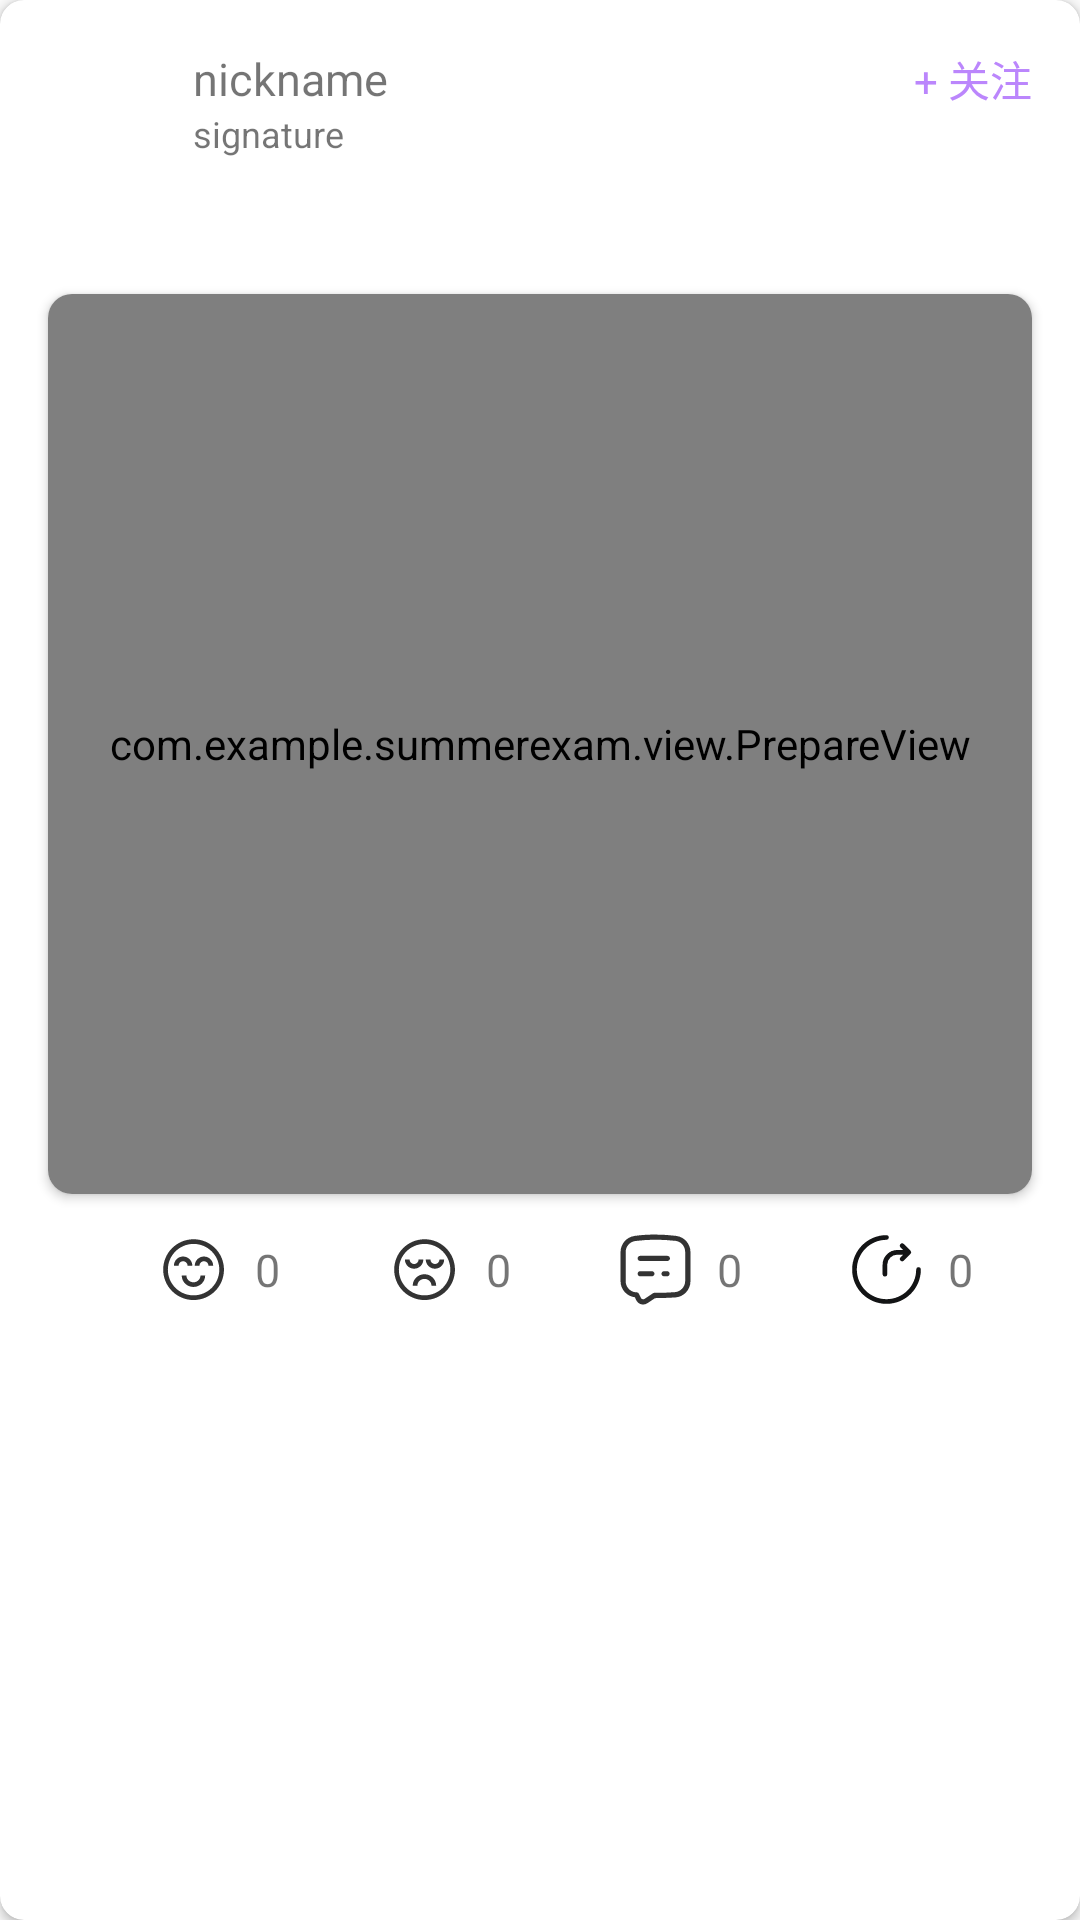

Screen size 1080×1920. Icon name, then its center in pixels as (x,y):
comment: (655,1269)
dislike: (424,1269)
like: (193,1269)
share: (886,1269)
